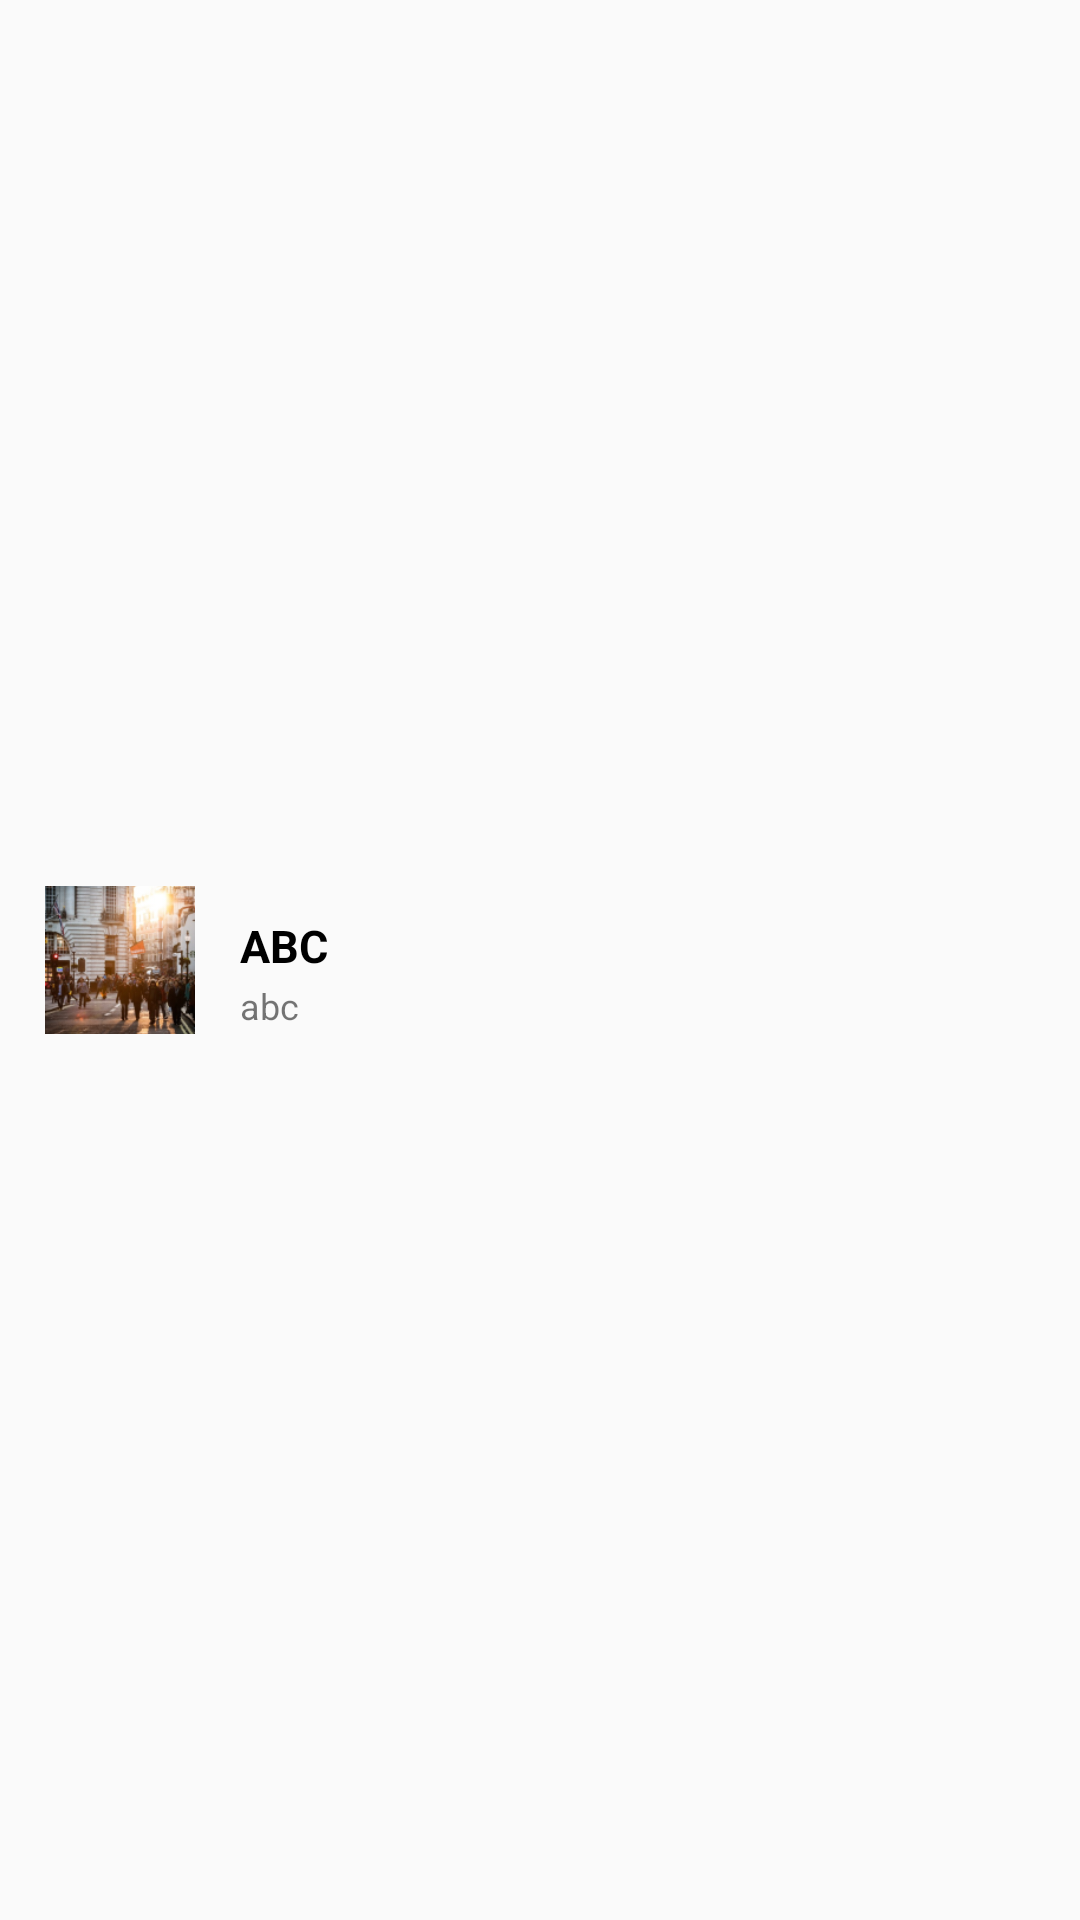

Where to tap for icons on this 1080x1920 app screen, as point (x, y):
albulm photo: point (120, 960)
